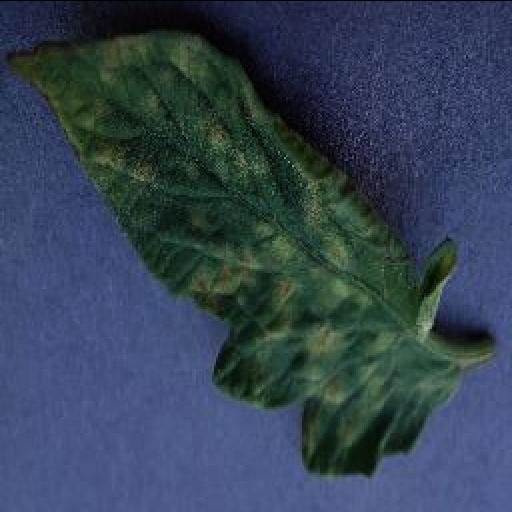disease_tomato: (4, 26, 460, 476)
